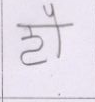o_matra: (49, 2, 64, 58)
